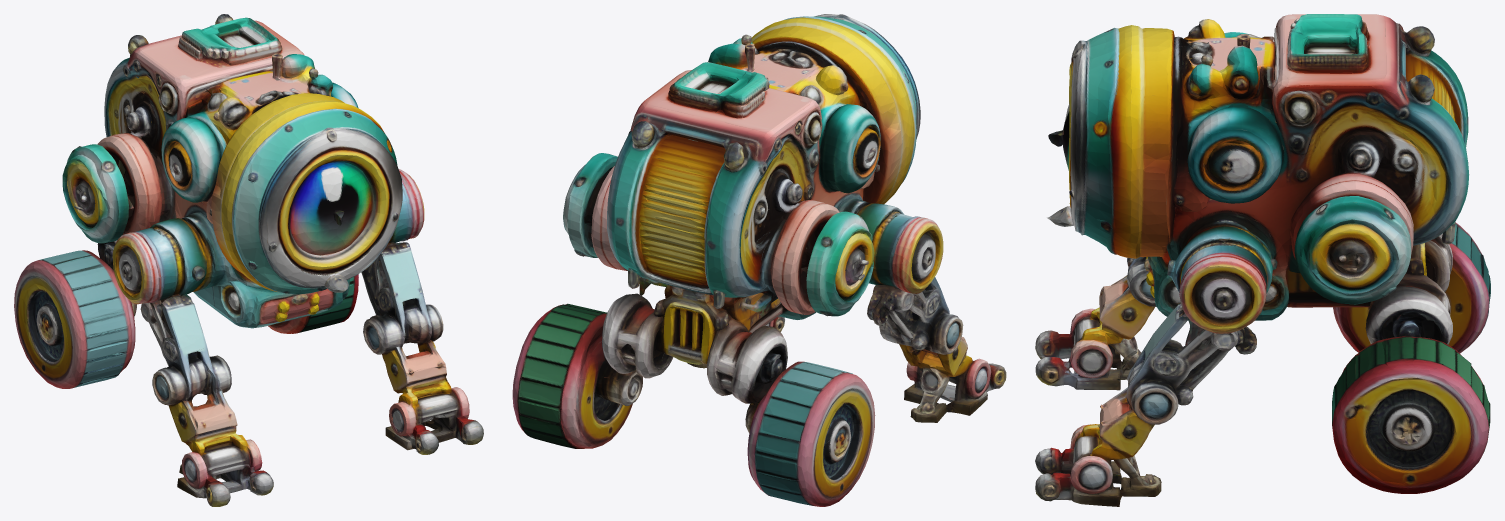
The model's file is typical_creature_quadruped_teacache.glb.
The picture shows the model from 3 angles, left to right: view 1: azimuth 30°, elevation 25°; view 2: azimuth 150°, elevation 25°; view 3: azimuth 270°, elevation 25°; orthographic projection. The views are drawn at different scales.
Parts seen in each view (by area): view 1: world; view 2: world; view 3: world.
Boxes of the visible parts, x1=… form: world: x1=14, y1=14, x2=483, y2=506; world: x1=512, y1=14, x2=1006, y2=506; world: x1=1035, y1=14, x2=1490, y2=506.
Bounding box in the file's own units: 0.8309 × 0.9821 × 1.
Materials: 1 (1 with a texture image).
